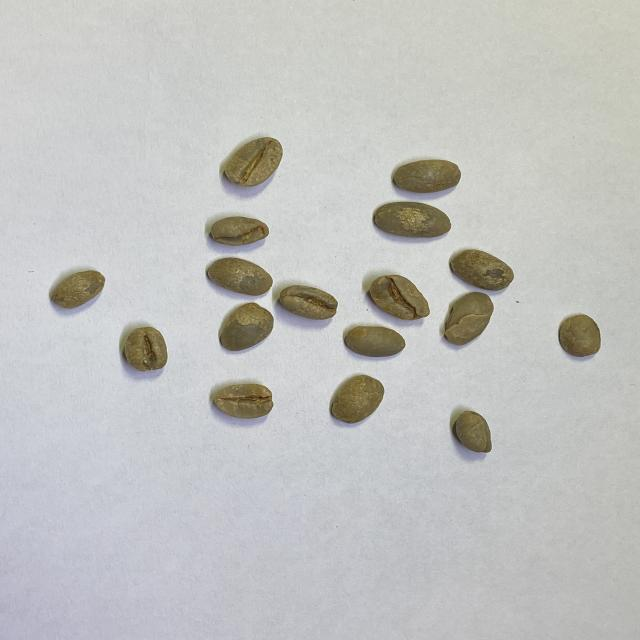bad: (443, 293, 493, 347), (206, 215, 270, 248)
good: (221, 136, 286, 189), (372, 200, 452, 242), (216, 302, 276, 351), (448, 248, 514, 292), (329, 373, 384, 424), (370, 275, 430, 321), (391, 157, 461, 195), (206, 256, 272, 296), (50, 268, 106, 312), (214, 381, 273, 420), (279, 284, 339, 322), (344, 324, 406, 360), (556, 312, 603, 358), (123, 327, 170, 372), (453, 410, 494, 454)
